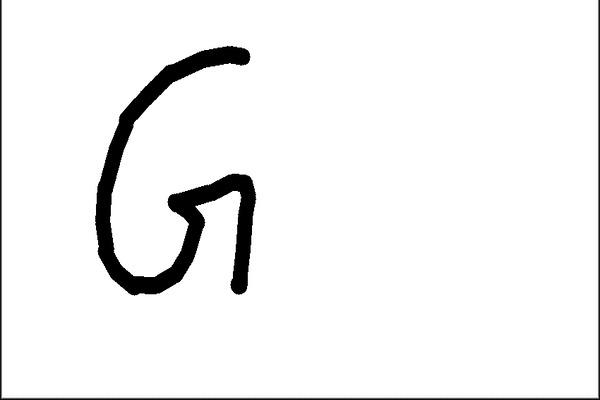G: (88, 42, 264, 300)
